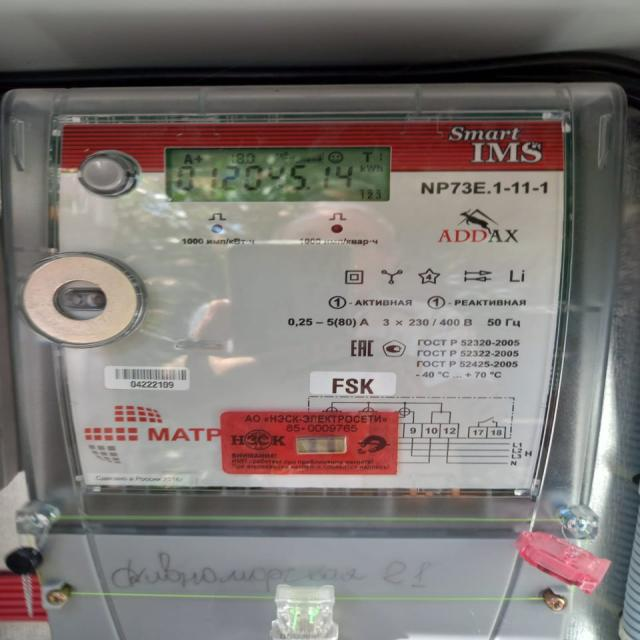Display: (162, 146, 394, 205)
meter_matrica: (10, 84, 622, 640)
meter_number: (102, 365, 192, 393)
seal_elso: (266, 583, 342, 640)
seal_imp: (219, 411, 401, 476)
